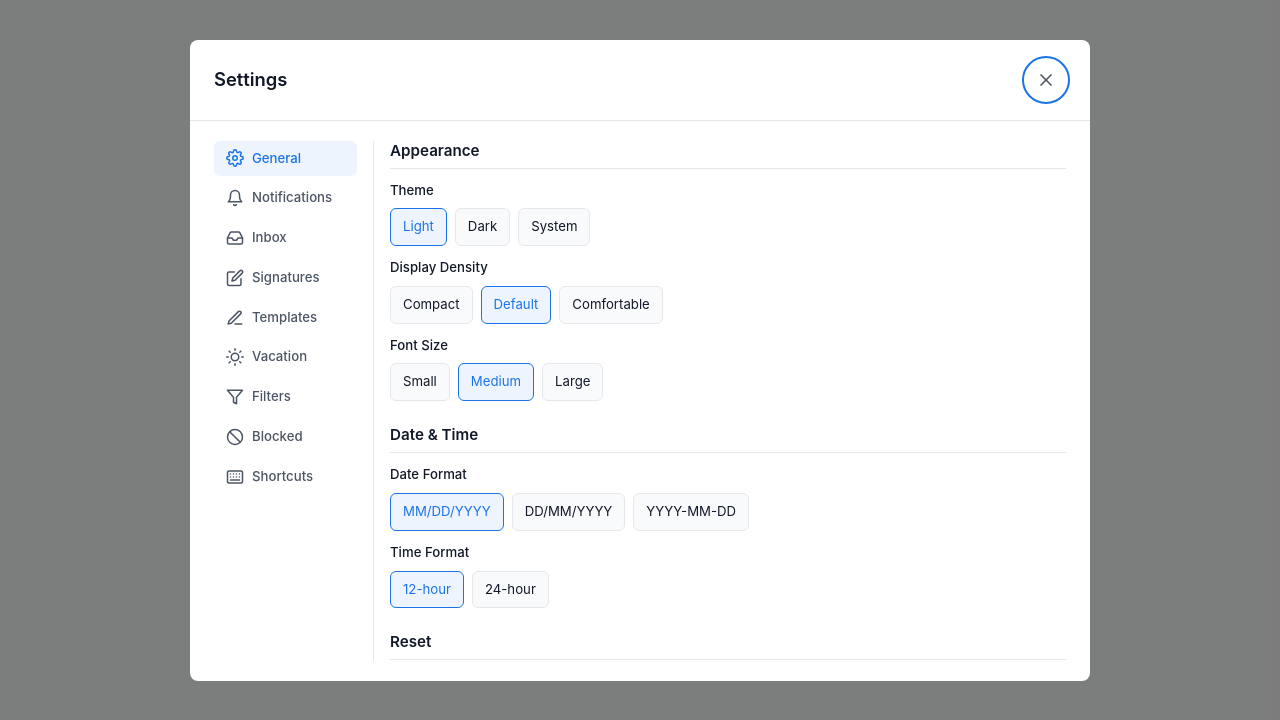
SettingsModal - filter list display › shows existing filters in the list
The image size is (1280, 720).
Click the button "Filters" at (286, 397), box [214,379,357,415]
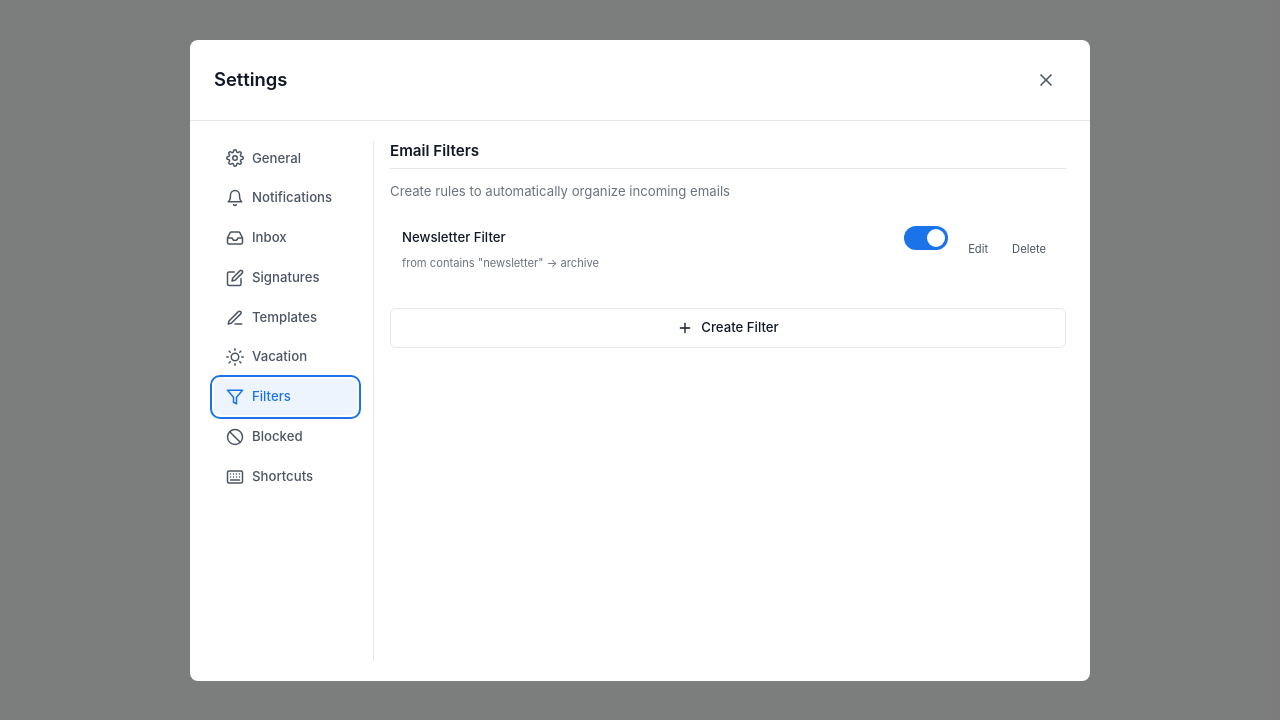
Expected: the heading "Email Filters" is shown, [390,140,1066,168]
Expected: the text "Newsletter Filter" is shown, [402,228,506,248]
